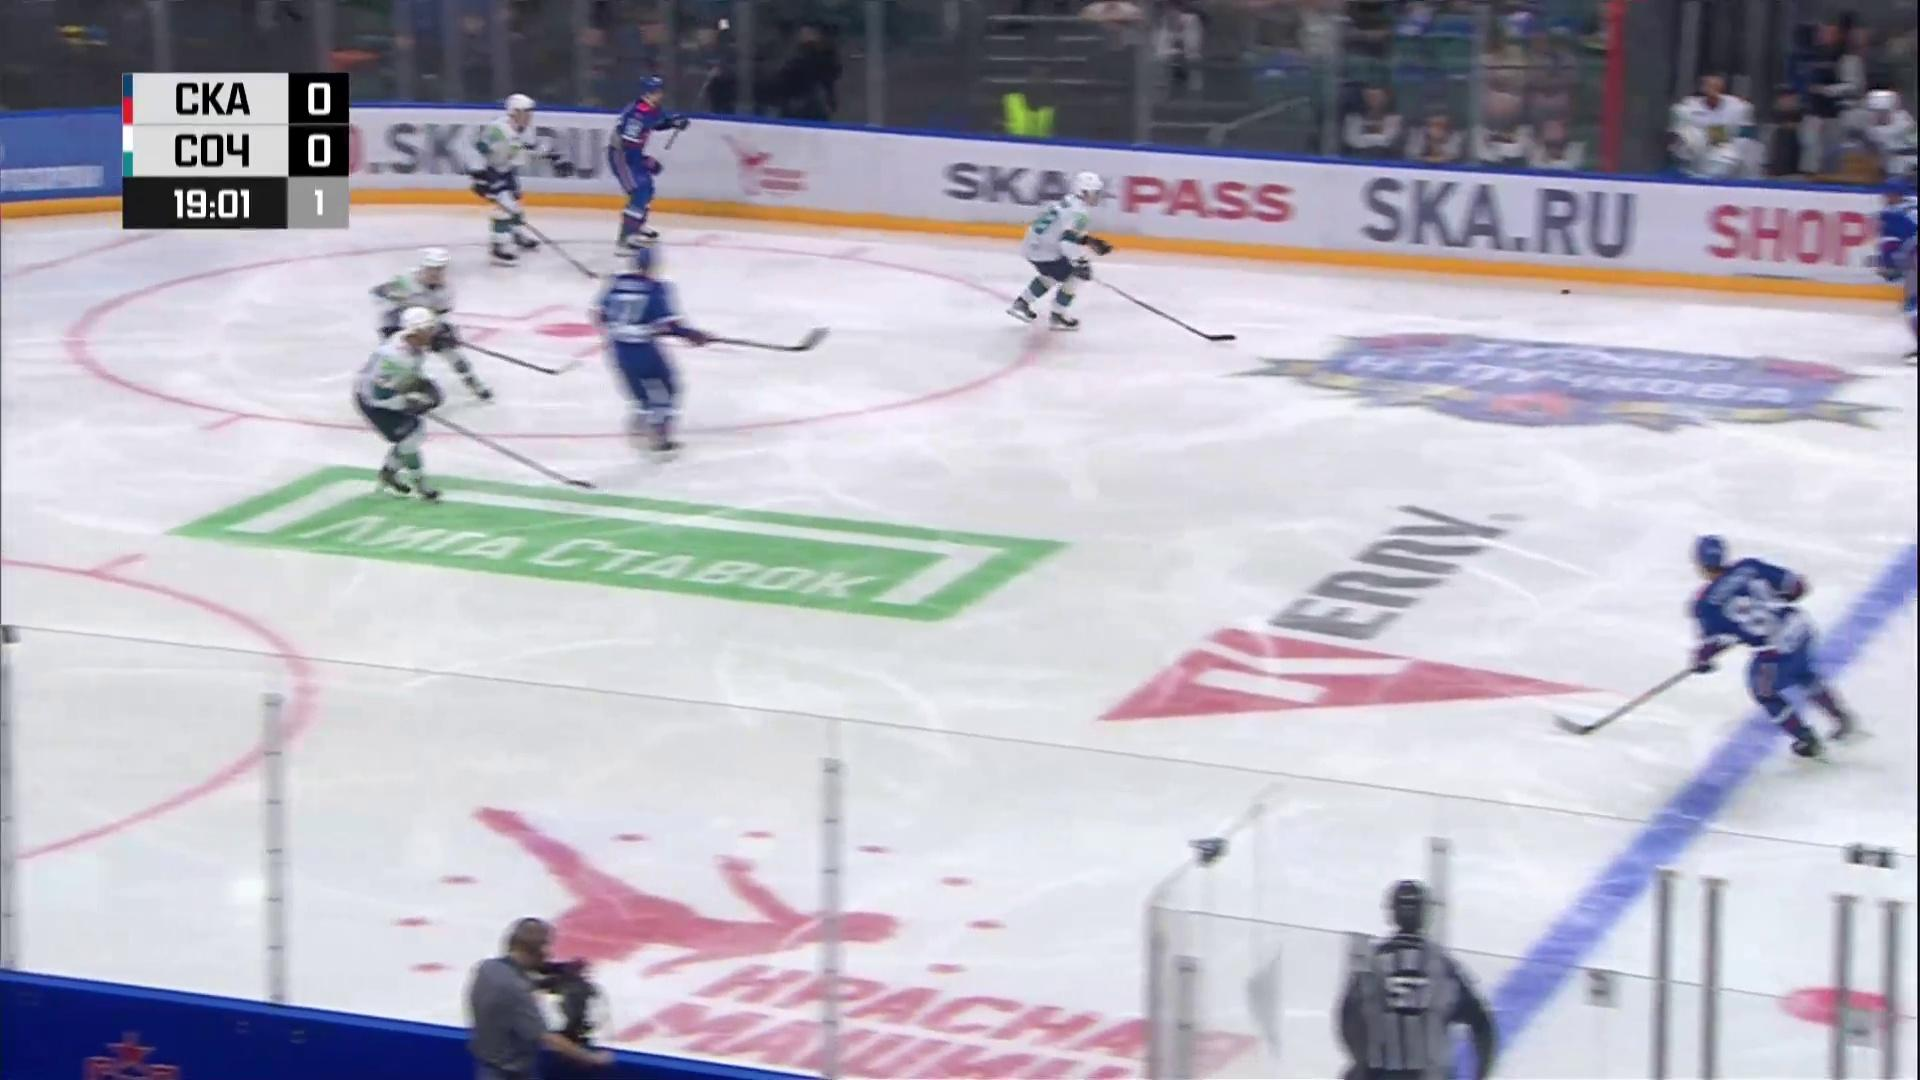ball: (1560, 289, 1571, 294)
